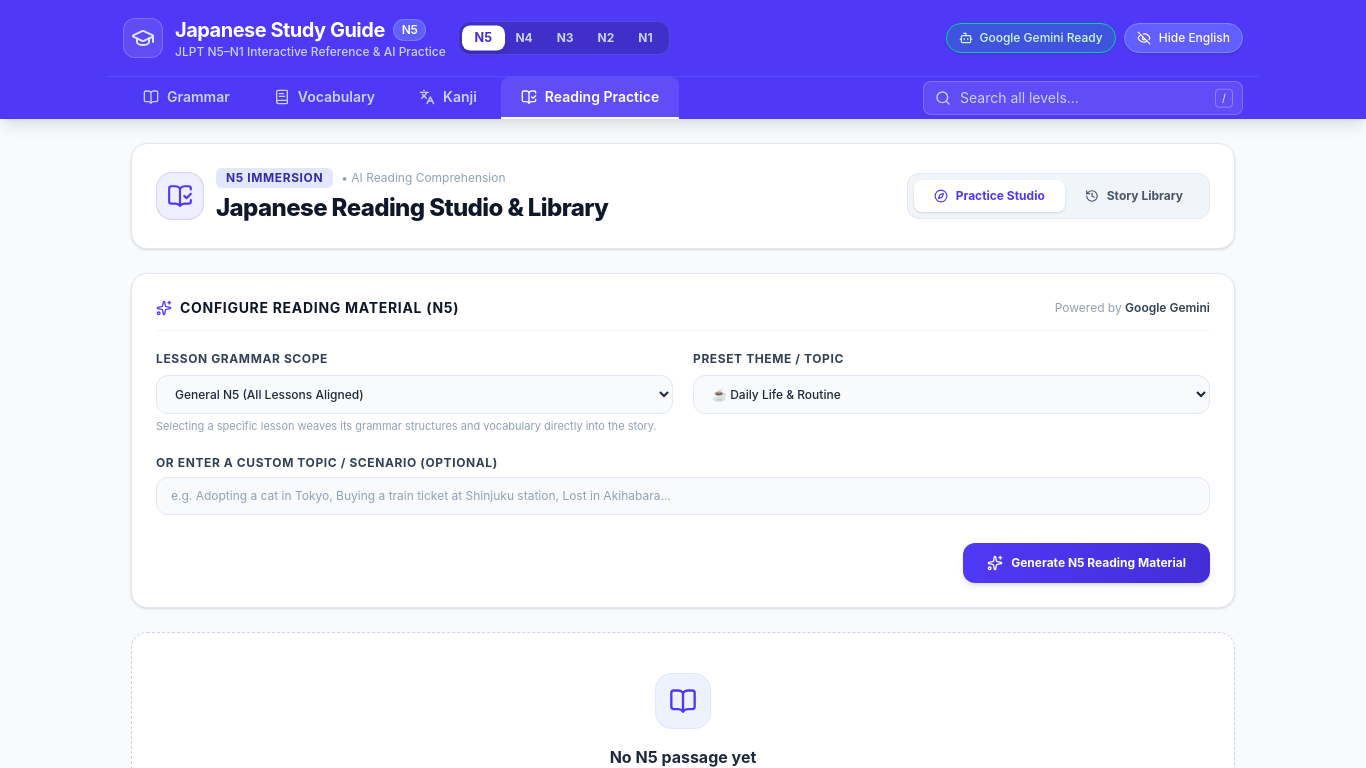
Test: Reading Studio flow › generates a passage with a mocked provider, then quizzes and archives it
expect the heading "No N5 passage yet" is shown: met, box [610, 746, 756, 766]
Click the button "Generate N5 Reading Material".
click(1087, 562)  # box [963, 542, 1210, 582]
(page scrolled)
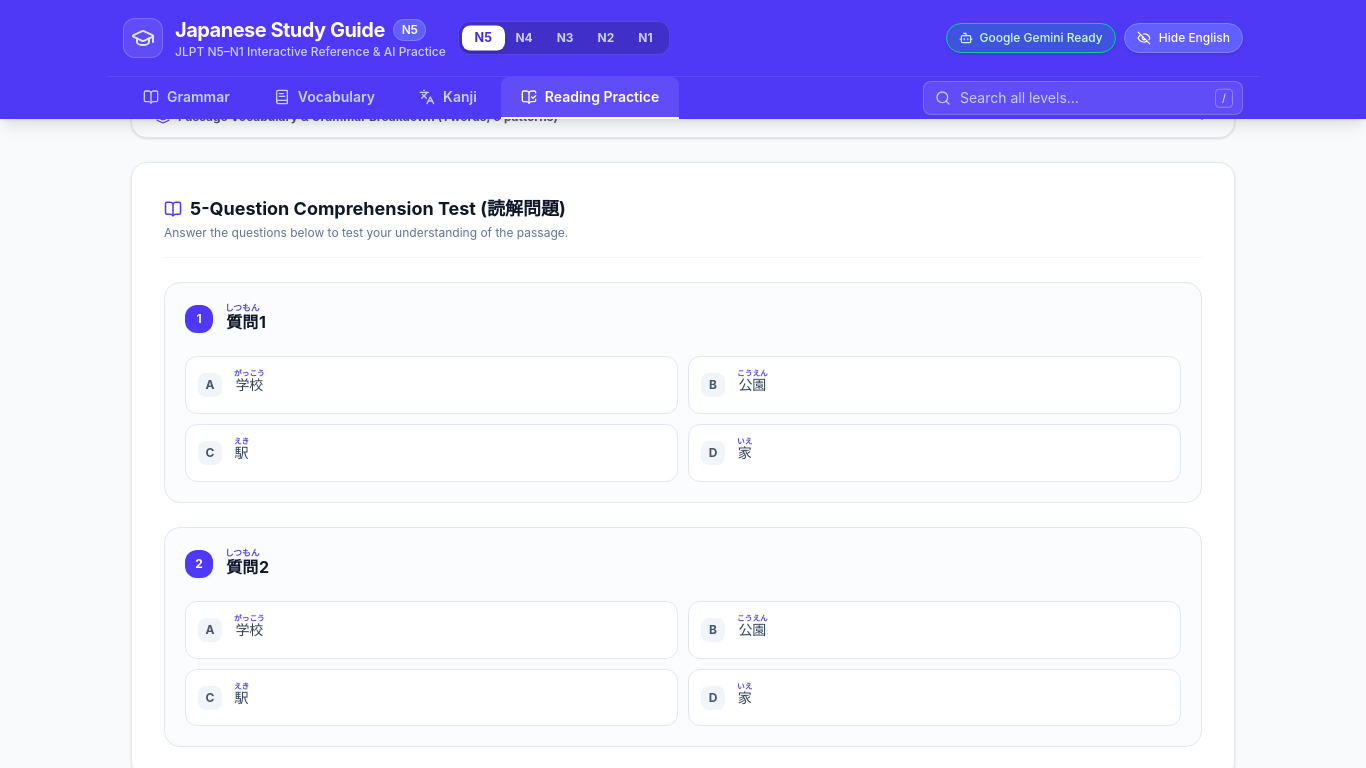
expect the text "Explanation & Evidence" is not shown: met
Click the 1st button "B 公園 こうえん".
click(752, 385)  # box [688, 356, 1181, 414]
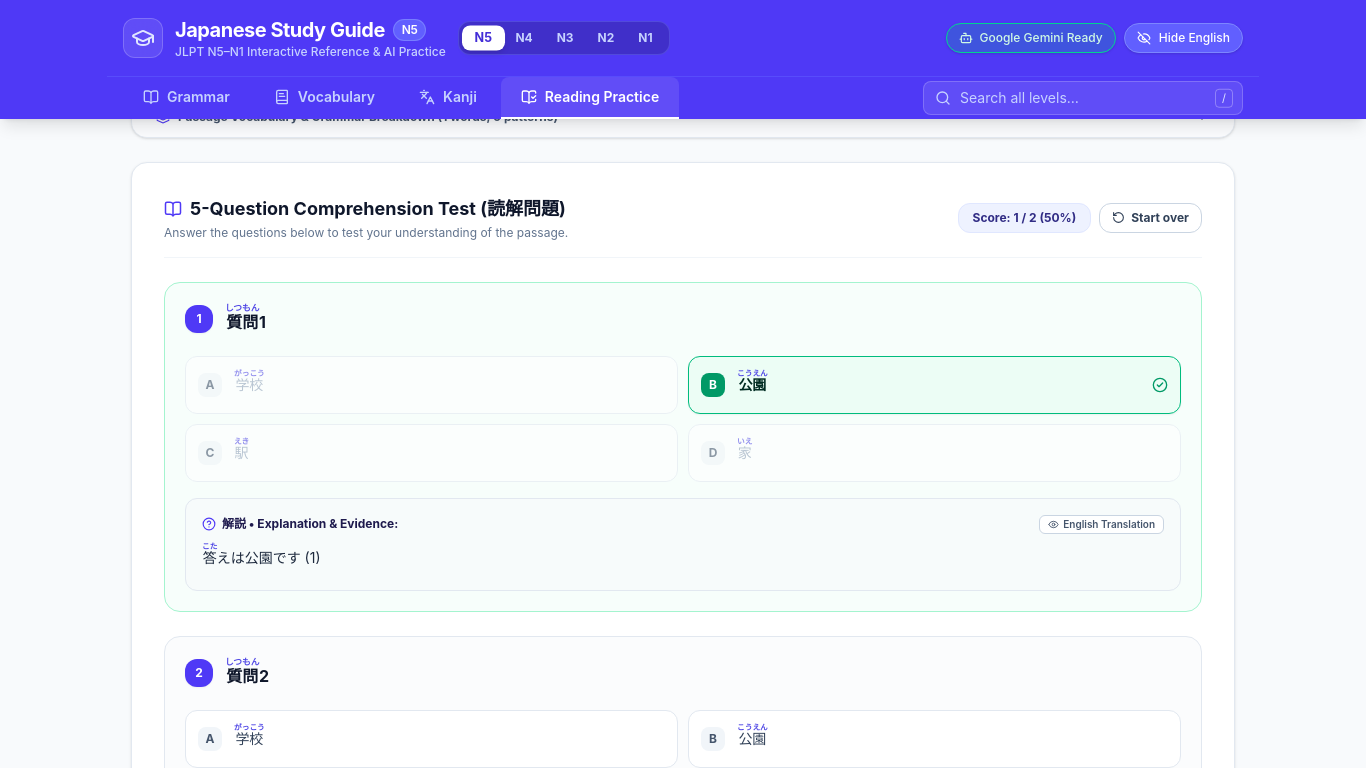
expect the text "The answer is the park (1)." is not shown: met
expect the text "解説 • Explanation & Evidence:" is shown: met, box [222, 516, 398, 532]
expect the text "Score: 1 / 2 (50%)" is shown: met, box [958, 203, 1091, 233]
Click the button "English Translation".
click(1102, 524)  # box [1039, 515, 1164, 534]
(page scrolled)
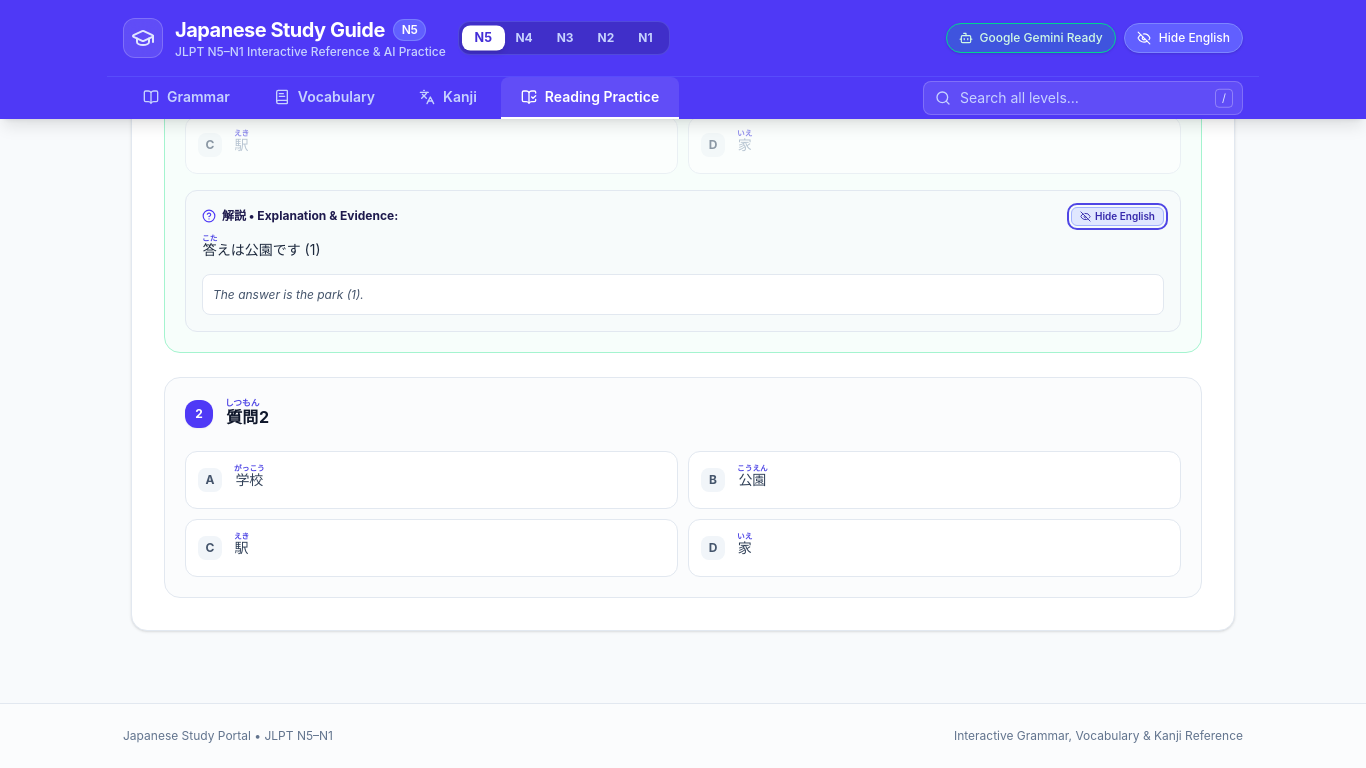
expect the text "The answer is the park (1)." is shown: met, box [202, 274, 1164, 315]
A wrong answer still counts as answered but not correct
Click the 2nd button "C 駅 えき".
click(210, 548)  # box [185, 519, 678, 577]
(page scrolled)
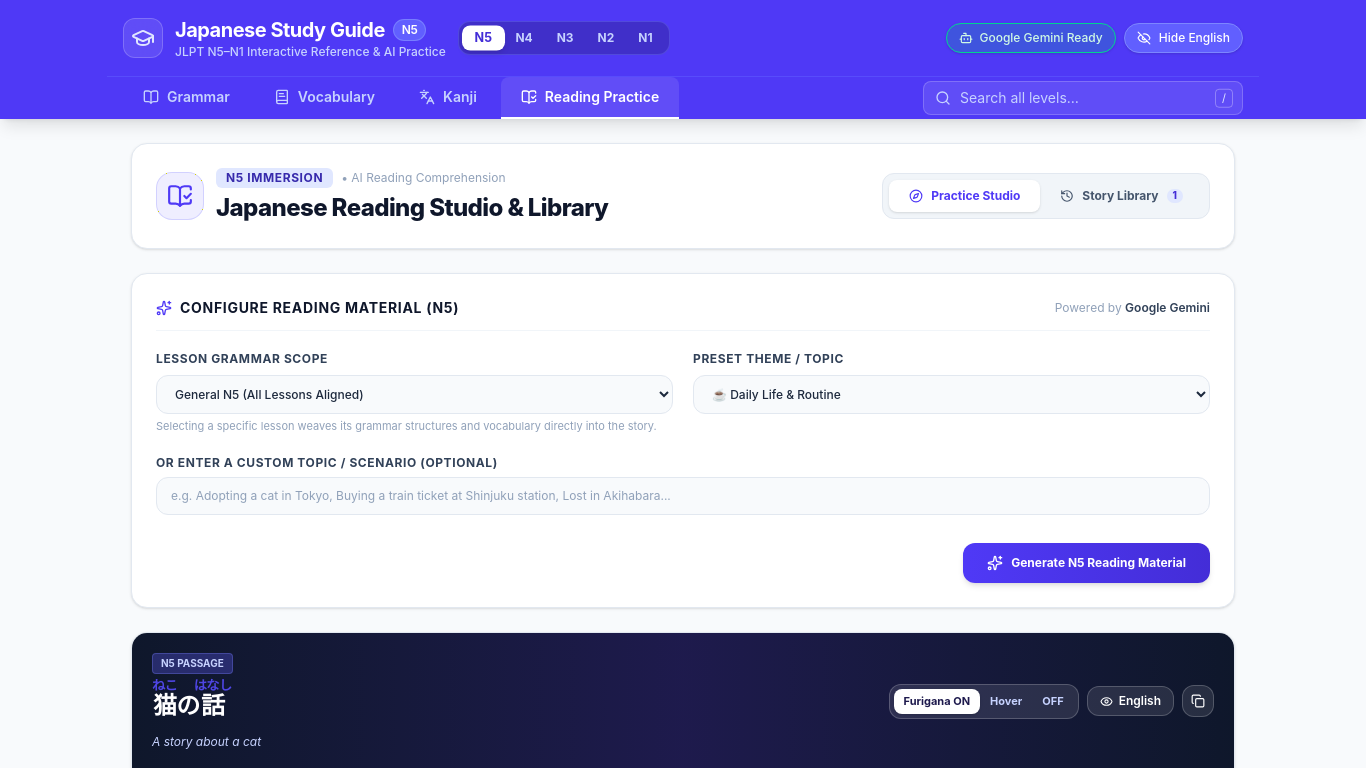
The passage landed in the library, with its progress
Click the tab "Story Library 1".
click(1122, 196)  # box [1040, 180, 1203, 212]
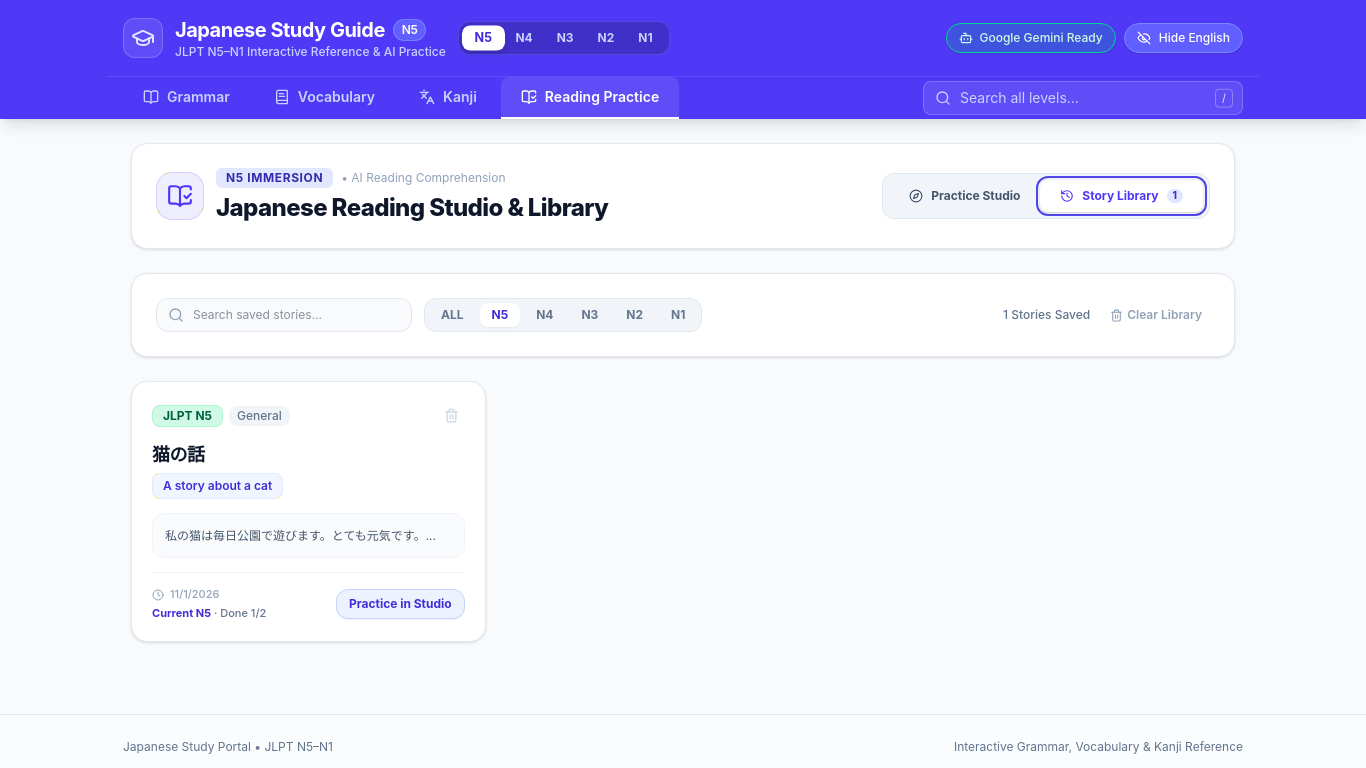
expect the heading "猫の話" is shown: met, box [152, 443, 205, 468]
expect the text "1 Stories Saved" is shown: met, box [1003, 307, 1090, 323]
expect the text "Current N5" is shown: met, box [152, 606, 211, 620]
